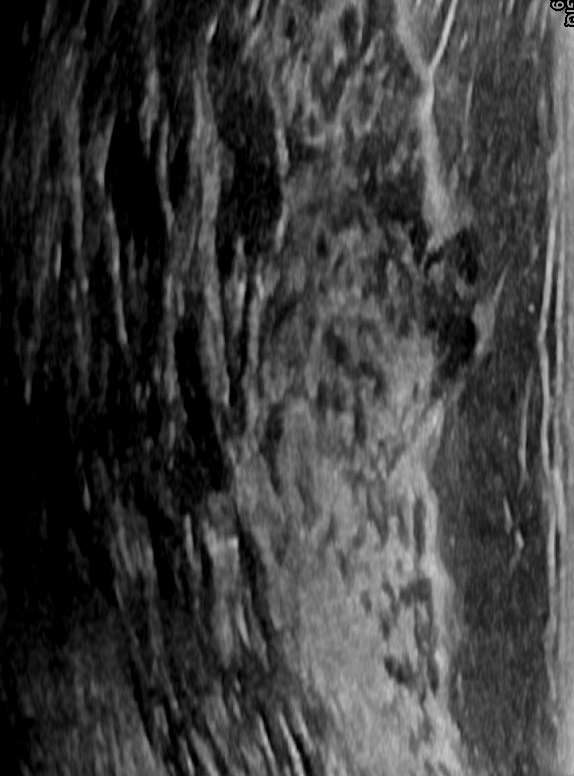Normal: (44, 1, 564, 771)
